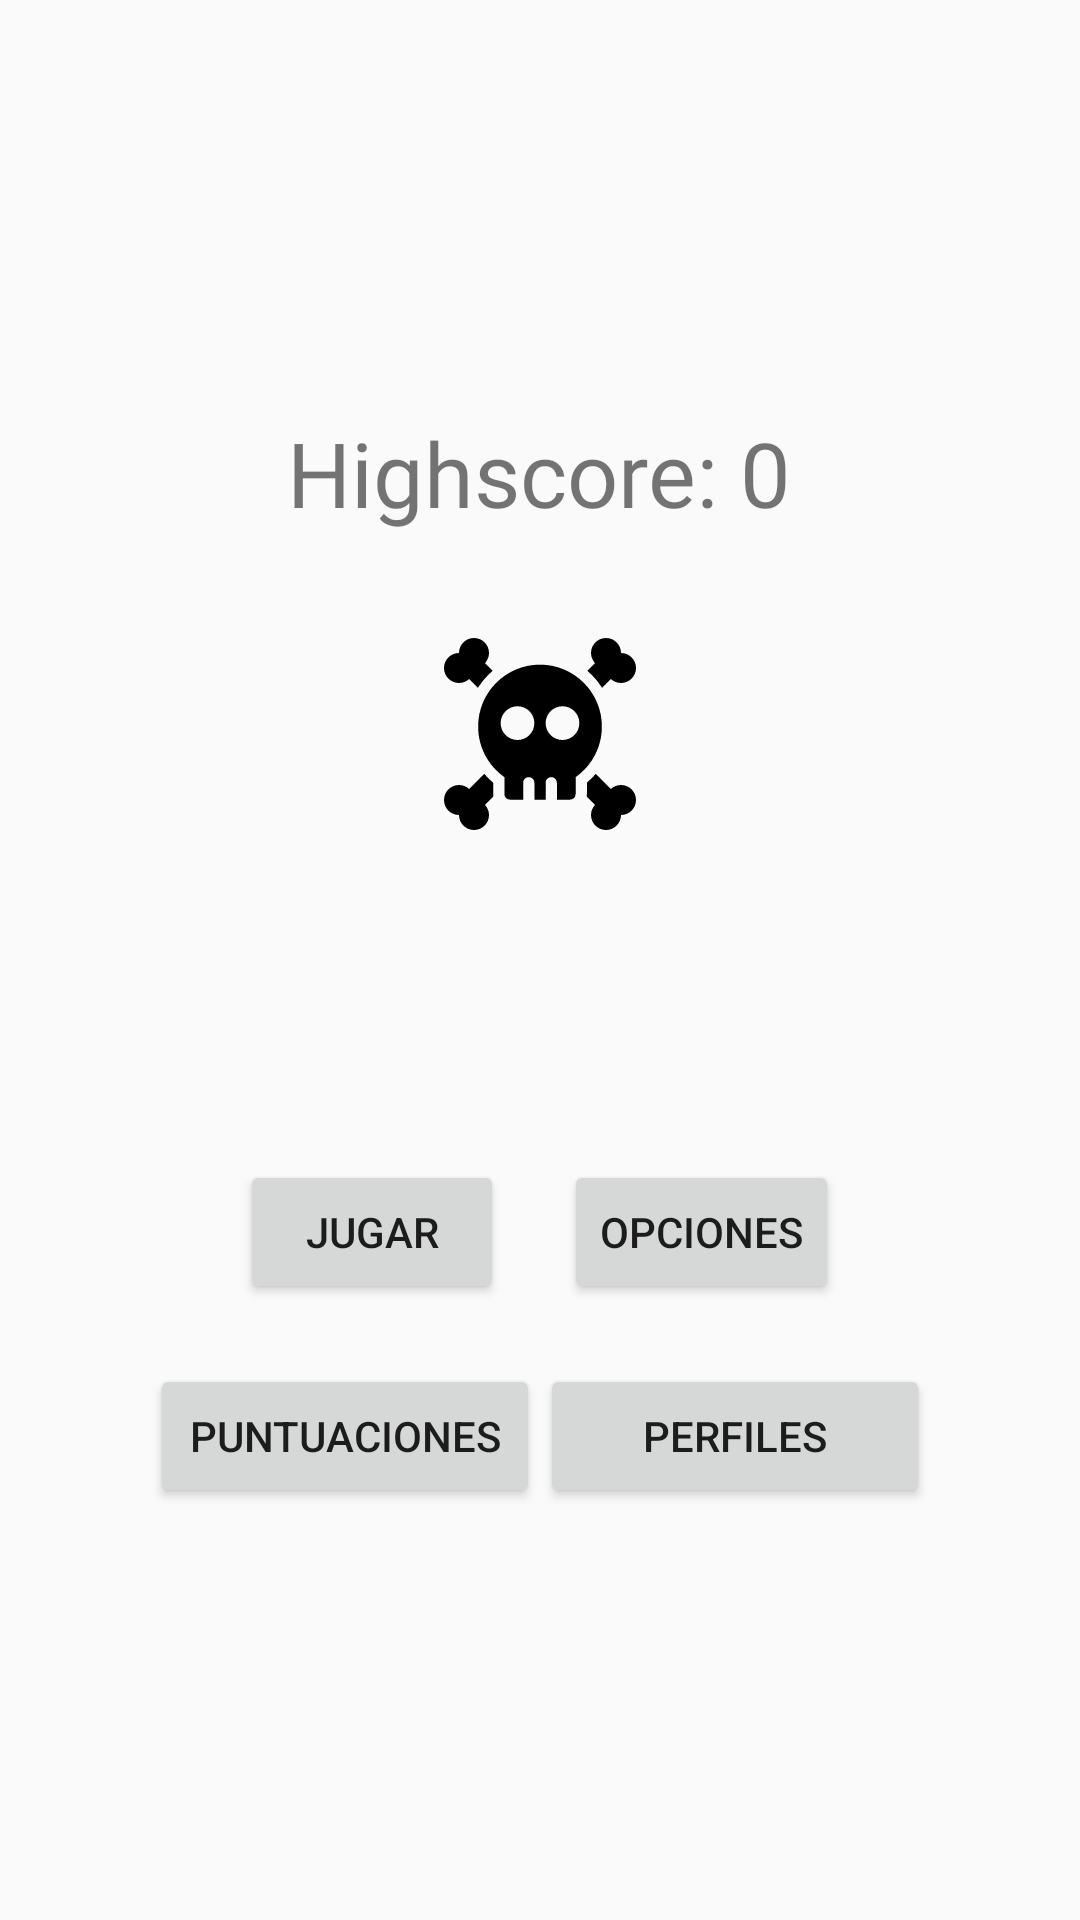

Where icons sit on this 1080px×1920px app screen, as (x1, y1, x2, y2):
skull: (444, 638, 636, 830)
